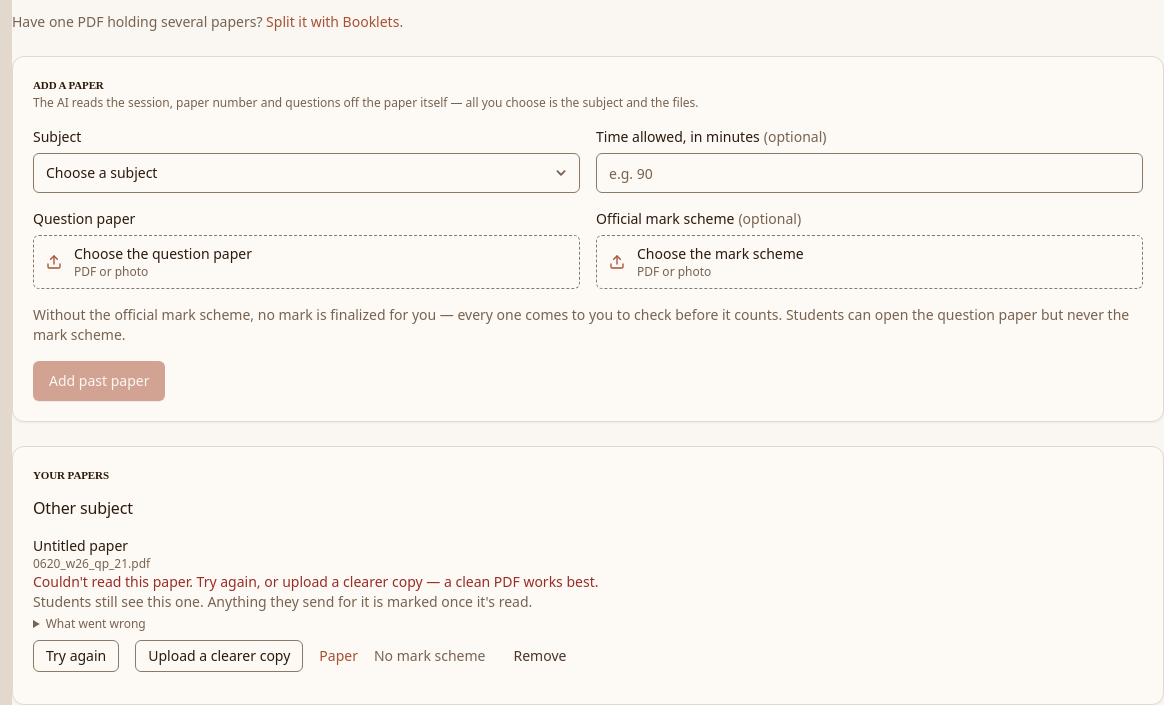
Test: a paper whose fix was accepted stops offering it straight away
The width and height of the screenshot is (1164, 705).
(page scrolled)
Click the button "Try again": (76, 656) [33,640,119,672]
(page scrolled)
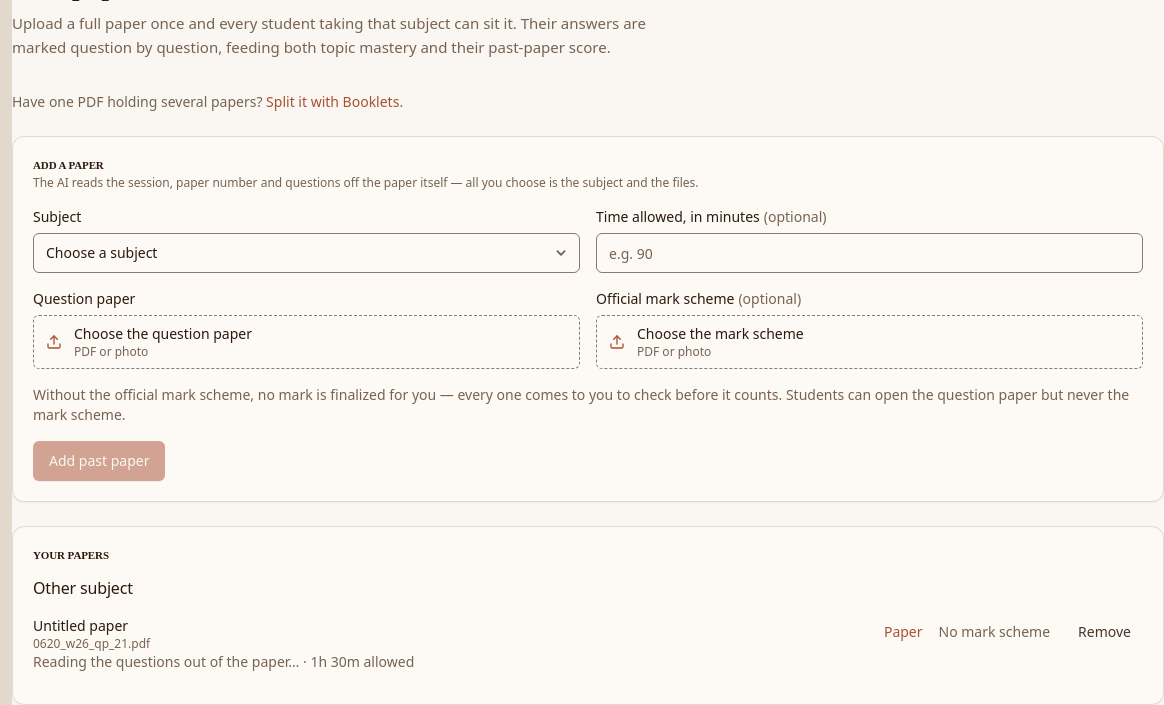
Now the text "Reading the questions out of the paper… · 1h 30m allowed" is shown, box [33,652,414,672]
Now the button "Try again" is gone
Now the button "Upload a clearer copy" is gone
